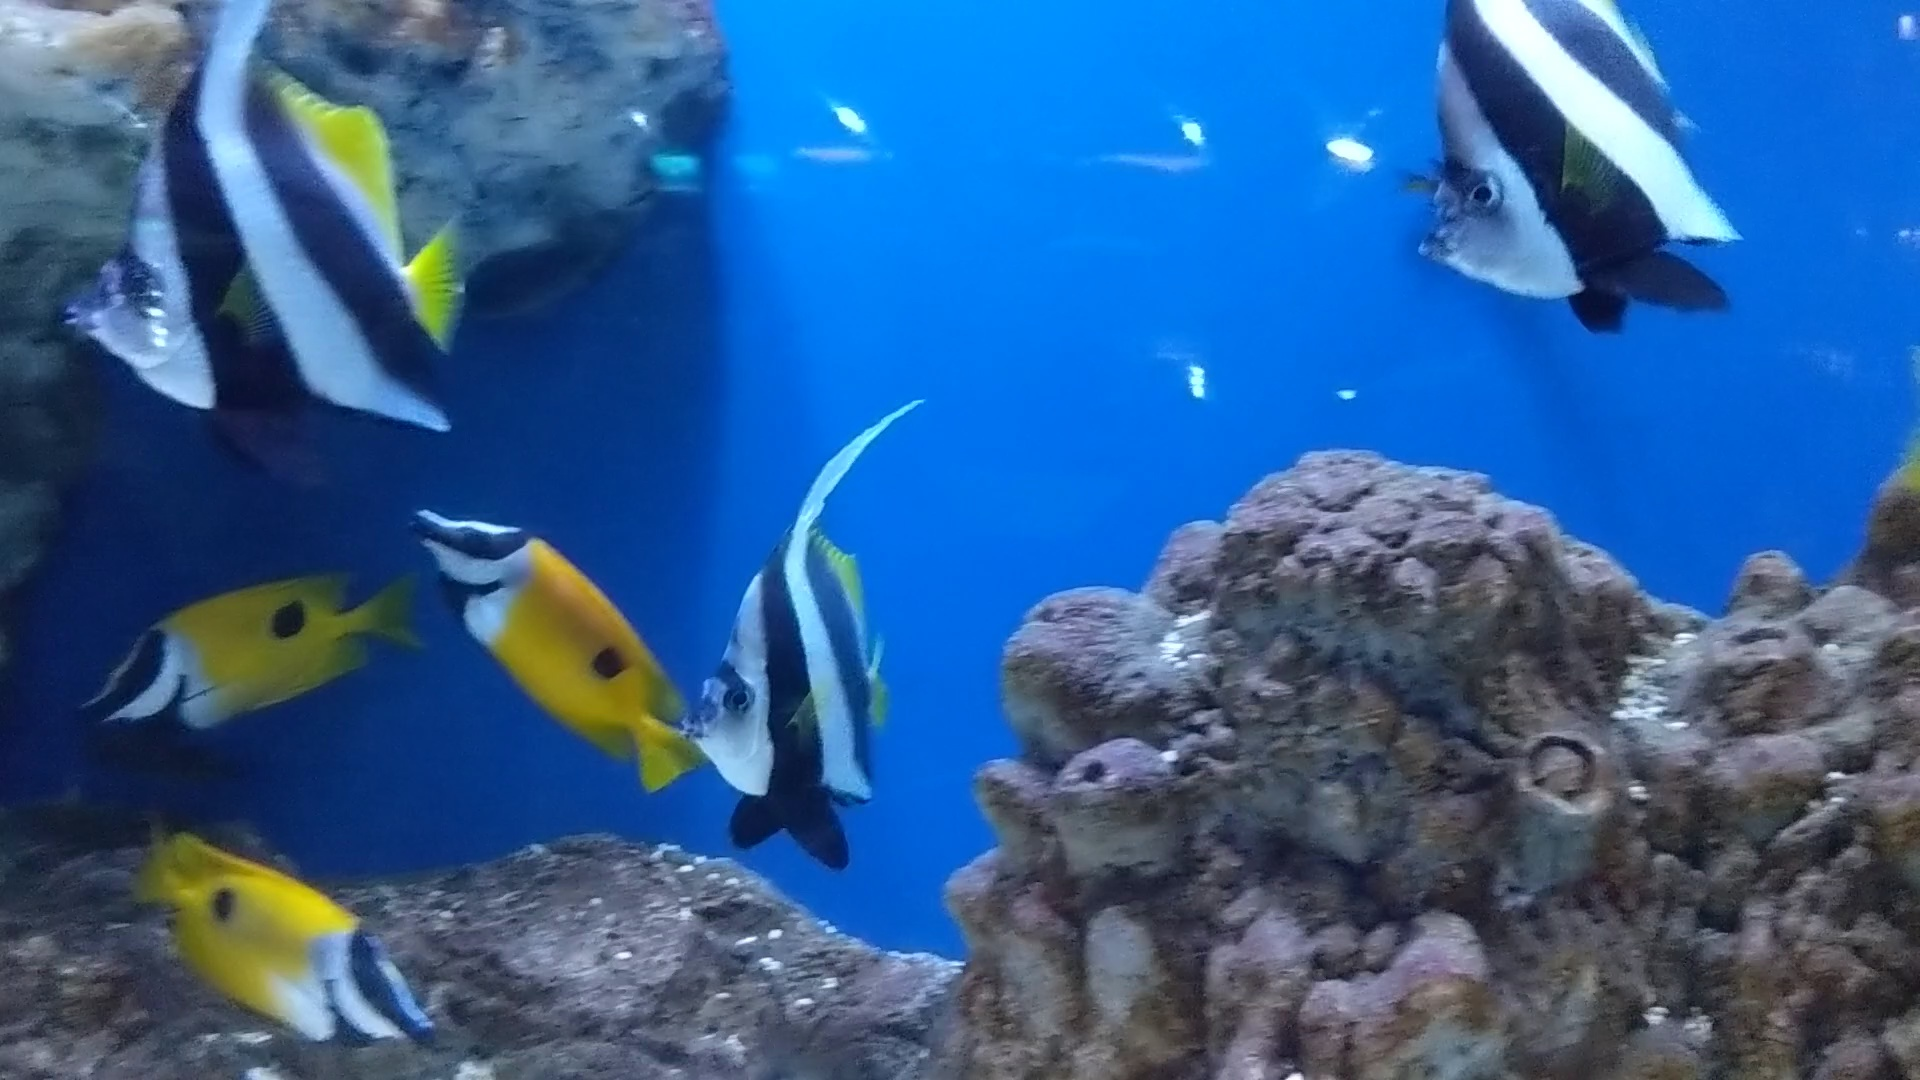moorfish: (30, 18, 479, 429), (669, 421, 897, 862), (1404, 0, 1729, 290)
rabbitfish: (398, 483, 700, 789), (135, 808, 429, 1044), (76, 576, 398, 754)
